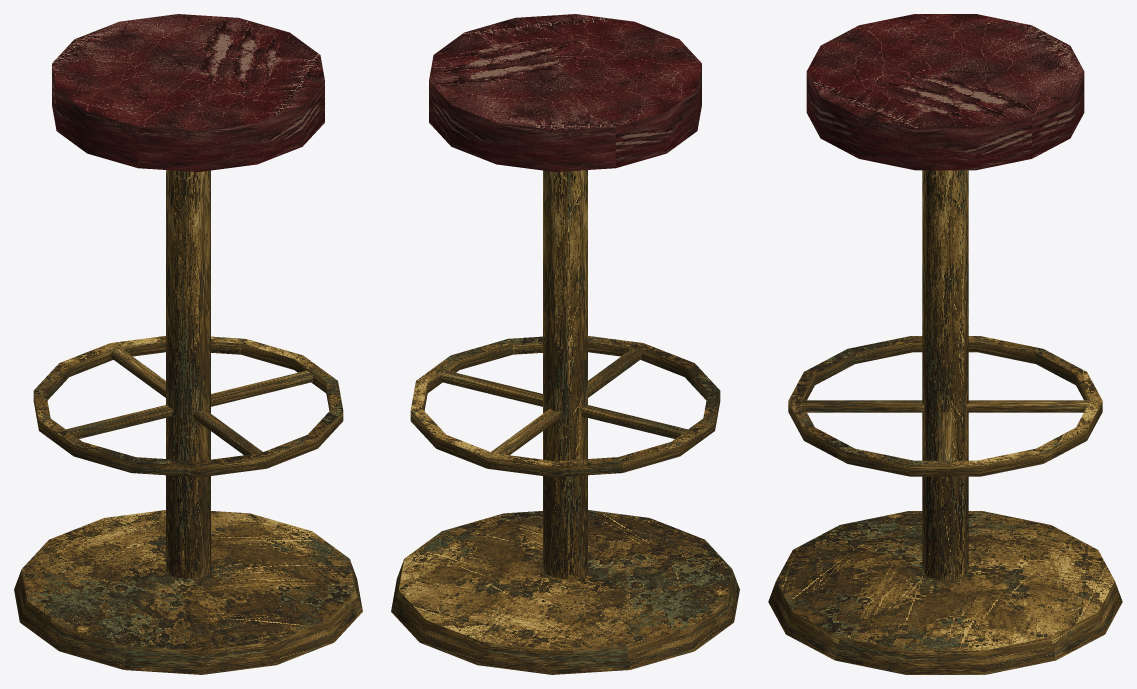
Rendered from HB_Stool.glb.
3 views of the same model, side by side, from view 1: azimuth 30°, elevation 25°; view 2: azimuth 150°, elevation 25°; view 3: azimuth 270°, elevation 25° (orthographic).
Visible parts, largest first — view 1: HB_Stool; view 2: HB_Stool; view 3: HB_Stool.
Part boxes in pixels (bbox=[...]): HB_Stool: bbox=[14, 14, 362, 674]; HB_Stool: bbox=[391, 14, 739, 674]; HB_Stool: bbox=[768, 14, 1122, 674].
Size of the model in its own units: 0.4485 by 0.76 by 0.46.
2 materials, 2 textured.
